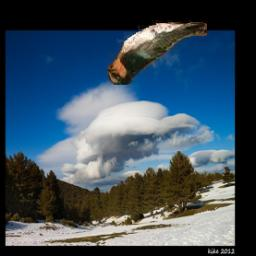Swallow: (107, 20, 207, 85)
